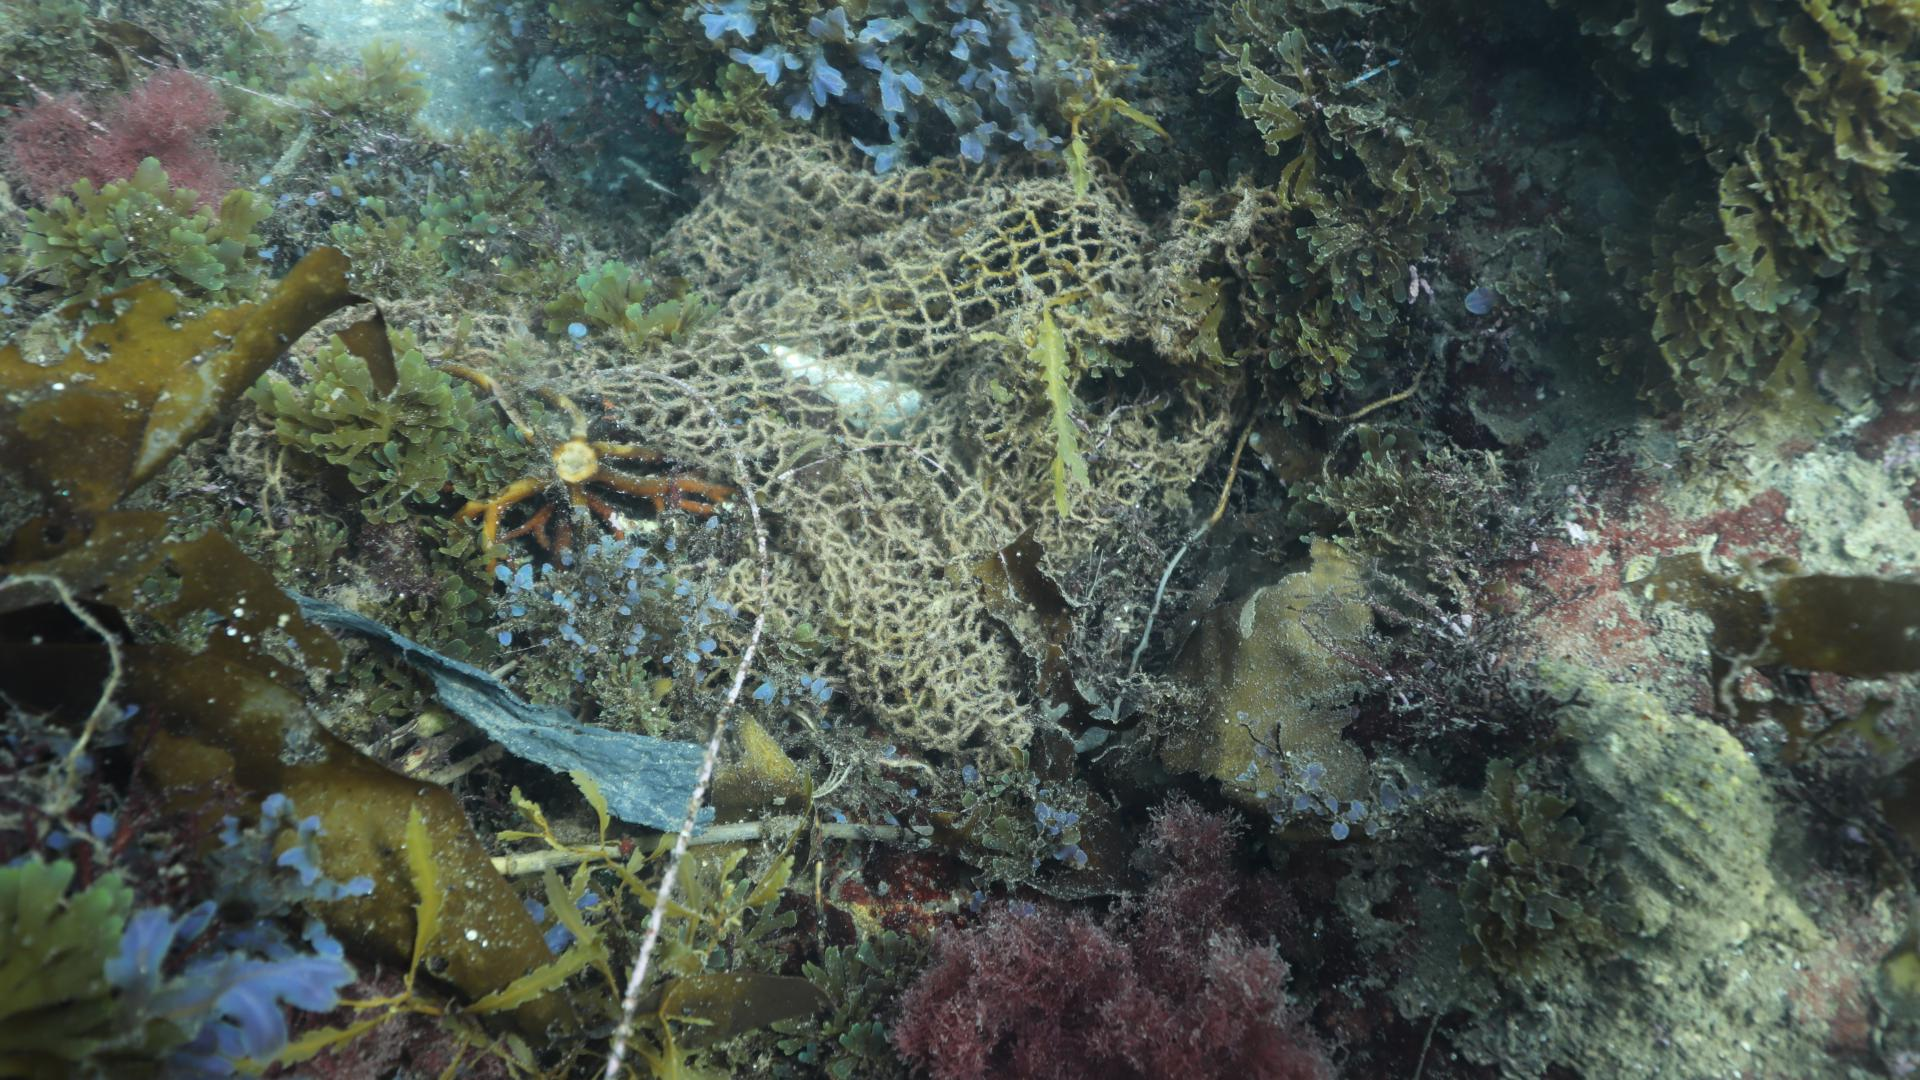fish net: (224, 128, 1216, 752)
